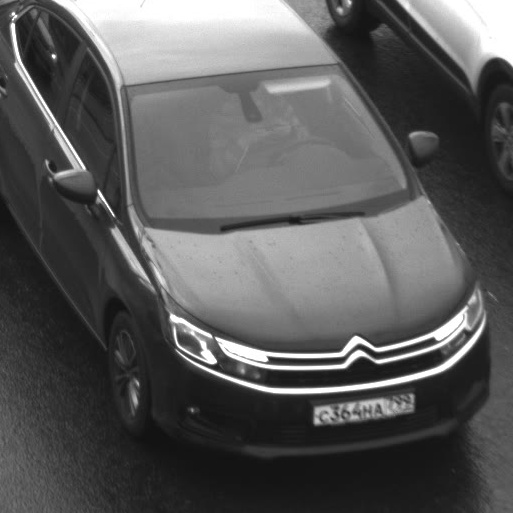plate: (301, 381, 423, 434)
